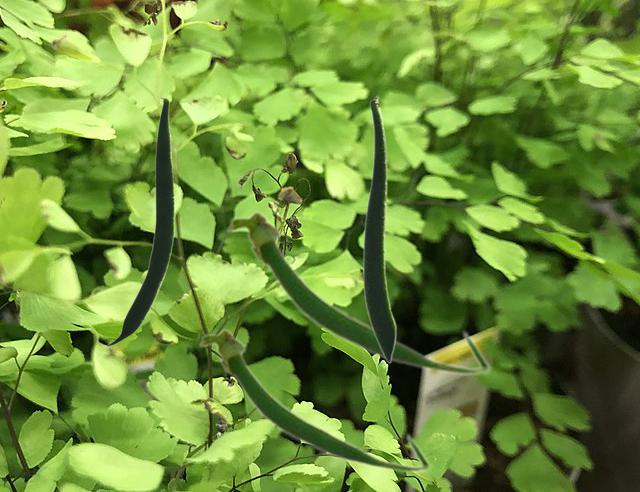french_bean: (225, 208, 491, 376), (197, 326, 431, 473), (105, 97, 173, 345), (362, 95, 396, 363)
